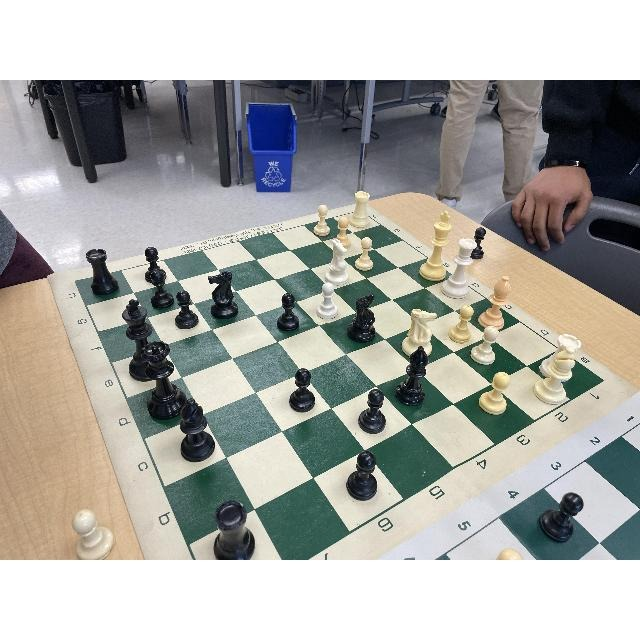black-bishop: (177, 398, 217, 462), (393, 344, 428, 407)
black-king: (121, 298, 161, 382)
black-knight: (207, 272, 239, 320), (348, 295, 376, 344)
black-pawn: (539, 491, 584, 544), (346, 450, 378, 502), (356, 389, 387, 435), (289, 368, 317, 412), (174, 290, 199, 330), (276, 293, 300, 333), (150, 269, 173, 310), (143, 247, 167, 281)
black-queen: (142, 340, 188, 419)
black-rook: (212, 501, 255, 559), (84, 247, 121, 297)
white-bishop: (535, 349, 577, 407), (477, 276, 511, 328)
white-king: (420, 211, 454, 280)
white-knight: (402, 309, 440, 359), (324, 239, 351, 285)
white-pawn: (478, 372, 511, 416), (471, 324, 499, 366), (448, 303, 474, 345), (316, 281, 340, 320), (354, 237, 374, 273), (332, 216, 353, 249), (311, 204, 331, 236)
white-queen: (440, 238, 478, 299)
white-rook: (539, 333, 580, 381), (347, 190, 372, 228)
